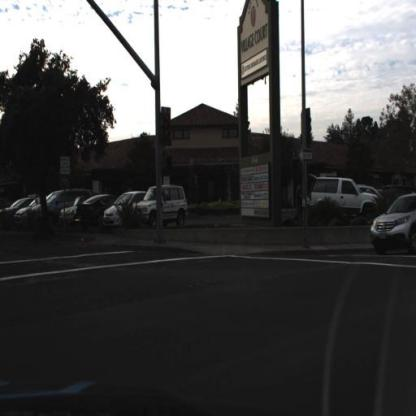car: (370, 191, 416, 256), (309, 175, 379, 217), (139, 184, 188, 233), (106, 189, 149, 231), (33, 188, 75, 229), (66, 193, 114, 224), (77, 189, 116, 227), (58, 193, 89, 232), (5, 194, 35, 225), (15, 197, 43, 223)
